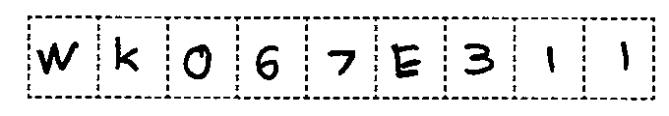0: (176, 39, 216, 85)
1: (609, 37, 643, 77), (532, 38, 564, 79)
3: (457, 39, 498, 79)
6: (250, 41, 288, 85)
7: (324, 43, 362, 83)
E: (384, 40, 429, 82)
K: (108, 32, 147, 78)
W: (32, 38, 83, 77)
